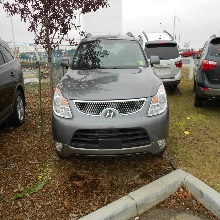no damage: (51, 33, 170, 159), (139, 31, 182, 88), (1, 38, 27, 130), (194, 36, 220, 106)
